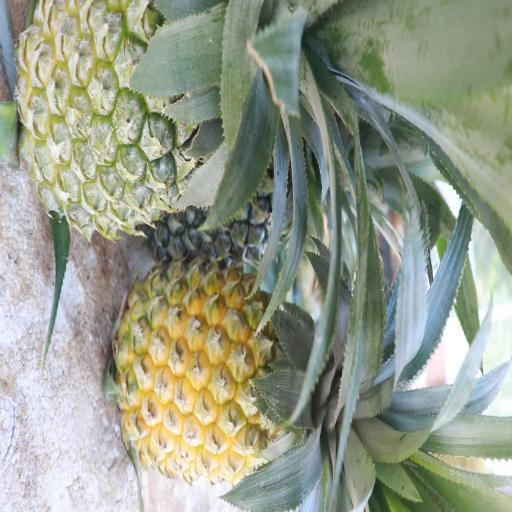------------------------------: (22, 0, 274, 234)
Pineapple - v8 v1: (118, 262, 348, 488)
